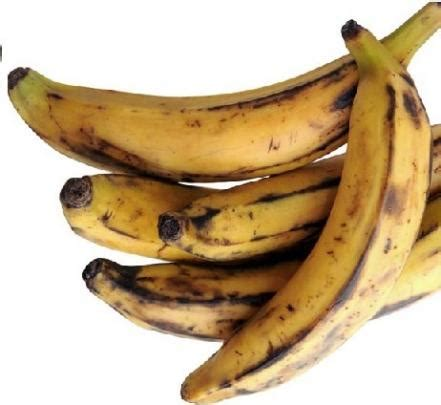banana: (172, 32, 436, 405), (6, 26, 418, 187)
